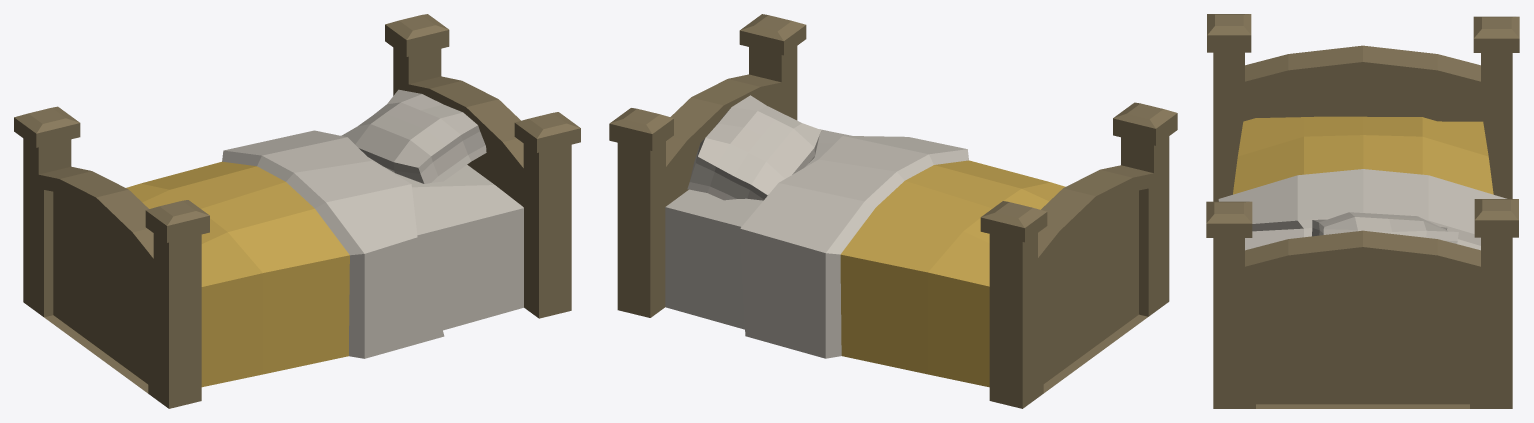
Rendered from bed.fbx.
3 renders of one model, left to right at view 1: azimuth 30°, elevation 25°; view 2: azimuth 150°, elevation 25°; view 3: azimuth 270°, elevation 25°, orthographic. The views are drawn at different scales.
Parts seen in each view (by area): view 1: bed; view 2: bed; view 3: bed.
Part boxes in pixels (x1,y1,x2,y2): bed: (14, 14, 580, 408); bed: (609, 14, 1177, 408); bed: (1206, 14, 1519, 408).
Bounding box in the file's own units: 3.17 × 1.39 × 2.03.
